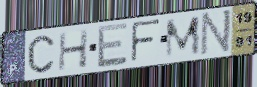C: (26, 34, 56, 75)
E: (96, 21, 129, 70)
F: (130, 18, 162, 65)
H: (57, 28, 90, 73)
M: (164, 14, 202, 61)
N: (199, 7, 233, 57)
